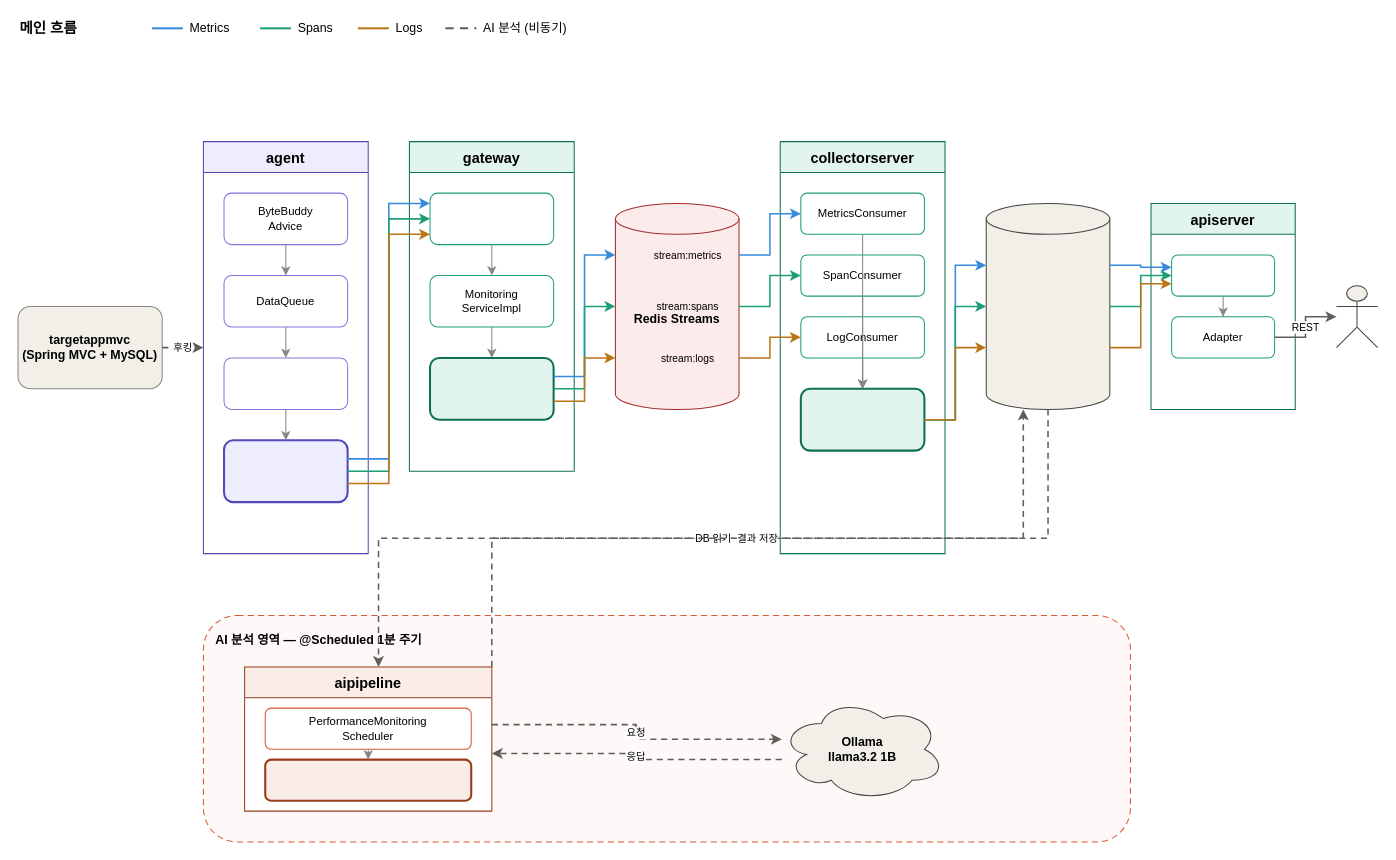
Some shapes in this 1396 by 860 pixel diagram are drawn without their labels. The centre of each missing label's shape, as x and y in pixels:
ApiKey AuthInterceptor: point 491,218
Client: point 1356,316
Controller: point 1223,275
GrpcSenderImpl: point 285,471
Pipeline → OllamaAnalysisService: point 368,779
Processor (3종): point 862,419
QueueWorker: point 285,383
RedisStream Publisher: point 491,388
TimescaleDB metrics / spans / logs ai_analysis_results: point 1047,305
